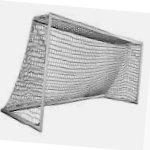goals: (1, 11, 145, 134)
